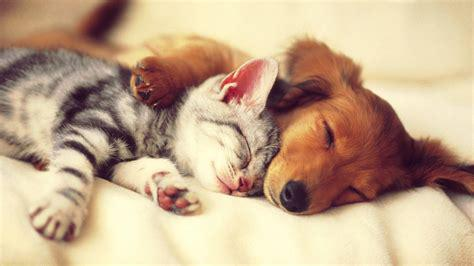cat: (1, 47, 279, 242)
dog: (132, 39, 474, 215)
